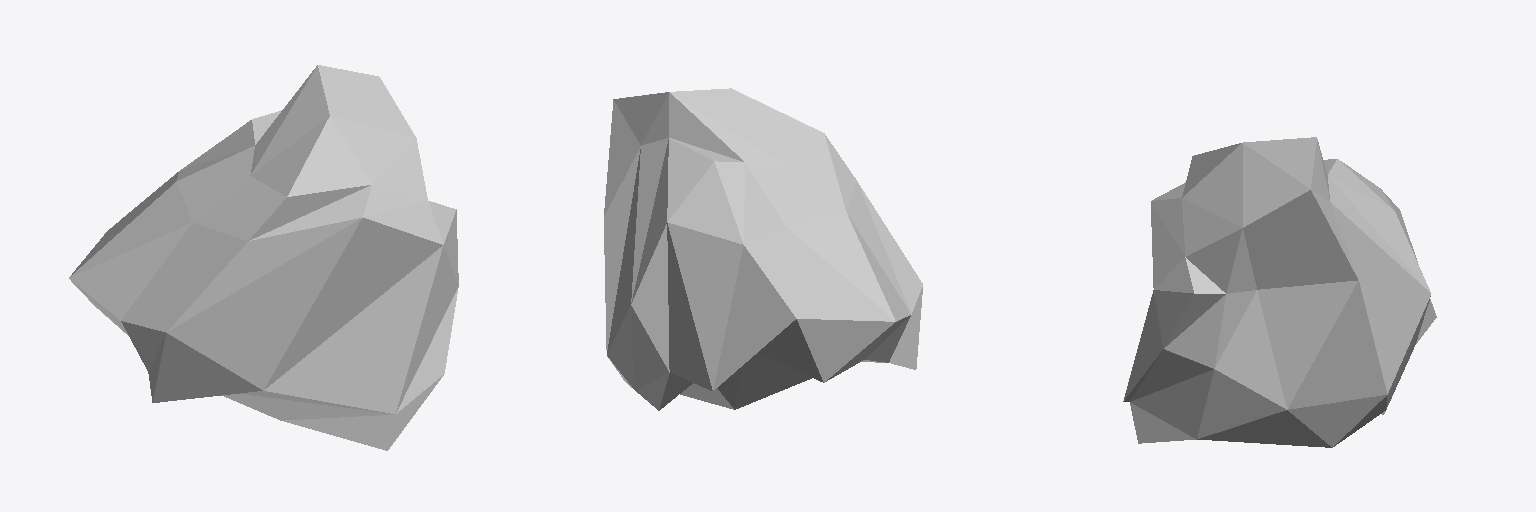
File: Asteroid1.obj
3 renders of one model, left to right at view 1: azimuth 30°, elevation 25°; view 2: azimuth 150°, elevation 25°; view 3: azimuth 270°, elevation 25°, orthographic.
Parts seen in each view (by area): view 1: Asteroid2; view 2: Asteroid2; view 3: Asteroid2.
Part boxes in pixels (bbox=[...]): Asteroid2: bbox=[69, 65, 458, 450]; Asteroid2: bbox=[604, 88, 922, 410]; Asteroid2: bbox=[1123, 137, 1436, 447].
Size of the model in its own units: 1.97 by 1.88 by 1.69.